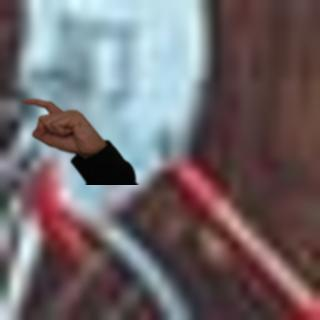WHY: (17, 94, 105, 156)
